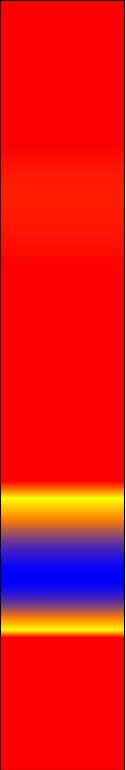Thermal Runaway: (2, 8, 118, 516), (4, 620, 121, 768)
critical: (8, 520, 116, 535), (5, 606, 118, 618)
safe: (4, 540, 121, 599)
